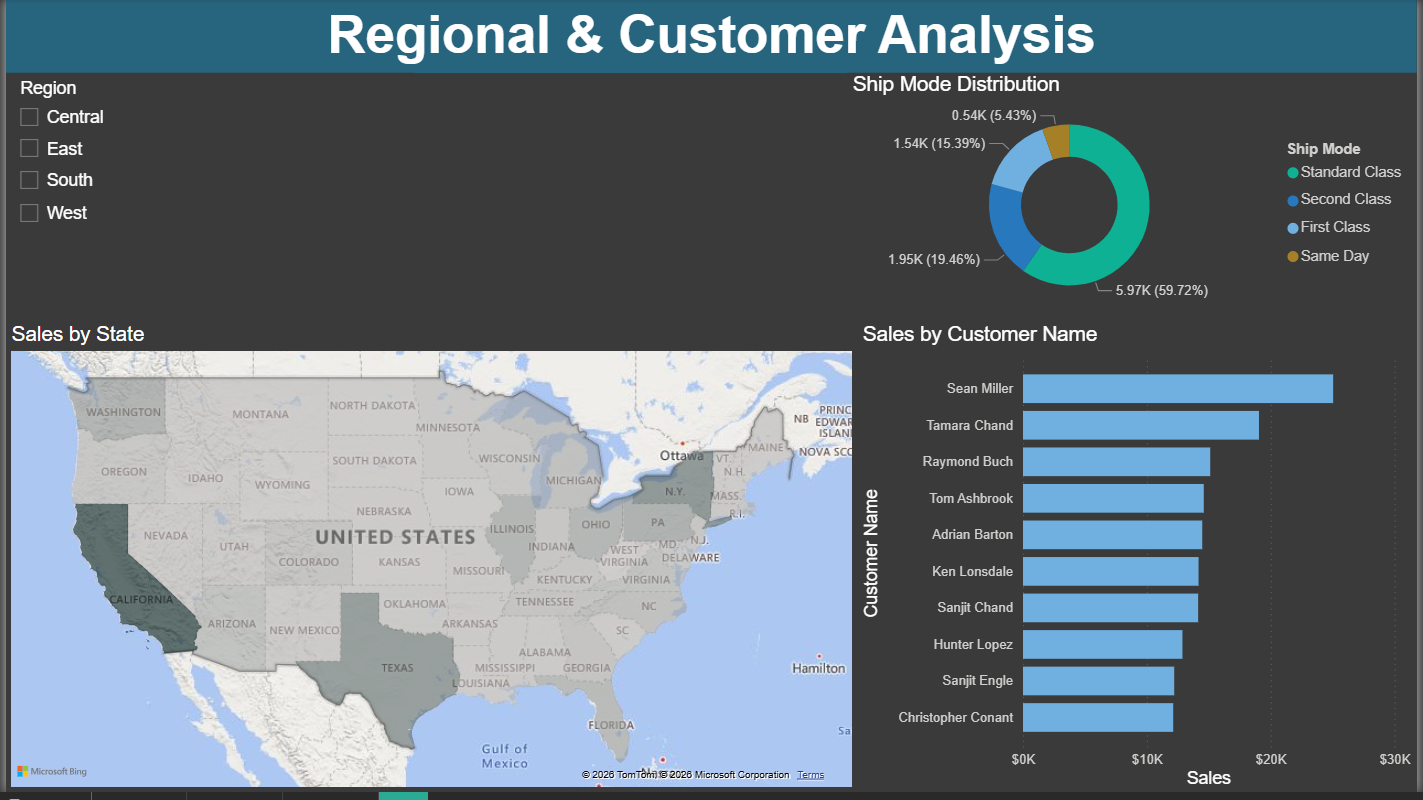

The page's visual inventory and layout, read from the dashboard file:
{"tool":"powerbi","page":{"name":"Page 3","canvas":[1280,720],"ordinal":2},"visuals":[{"type":"filledMap","title":"Sales by State","fields":{"Category":["Sheet1.State"]},"box":[0,293.7,772.6,426.8],"z":0},{"type":"textbox","box":[0,0,1280.3,67.2],"z":1},{"type":"barChart","fields":{"Category":["Sheet1.Customer Name"],"Y":["Sum(Sheet1.Sales)"]},"box":[772.6,293.7,507.7,426.8],"z":2},{"type":"donutChart","title":"Ship Mode Distribution","fields":{"Category":["Sheet1.Ship Mode"],"Y":["CountNonNull(Sheet1.Ship Mode)"]},"box":[763,67.2,517.3,219.6],"z":3},{"type":"slicer","fields":{"Values":["Sheet1.Region"]},"box":[0,67.2,370.5,219.6],"z":4}]}

Visuals, with their boxes in screenshot pixels (x1, y1, x2, y2), scaled from the page's 1280x720 canvas onto the 1423x800 screenshot:
"Sales by State" filledMap: [left=0, top=326, right=859, bottom=799]
textbox: [left=0, top=0, right=1422, bottom=75]
barChart - Sheet1.Customer Name x Sum(Sheet1.Sales): [left=859, top=326, right=1422, bottom=799]
"Ship Mode Distribution" donutChart: [left=848, top=75, right=1422, bottom=319]
slicer - Sheet1.Region: [left=0, top=75, right=412, bottom=319]
